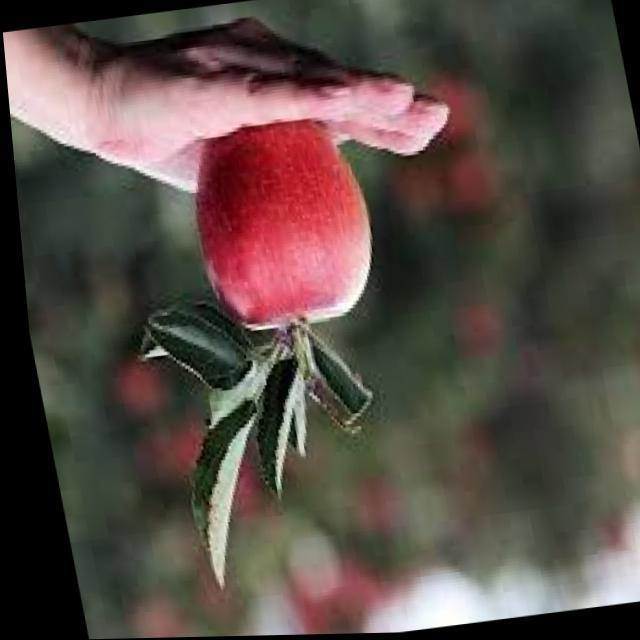Apple: (190, 91, 378, 329)
